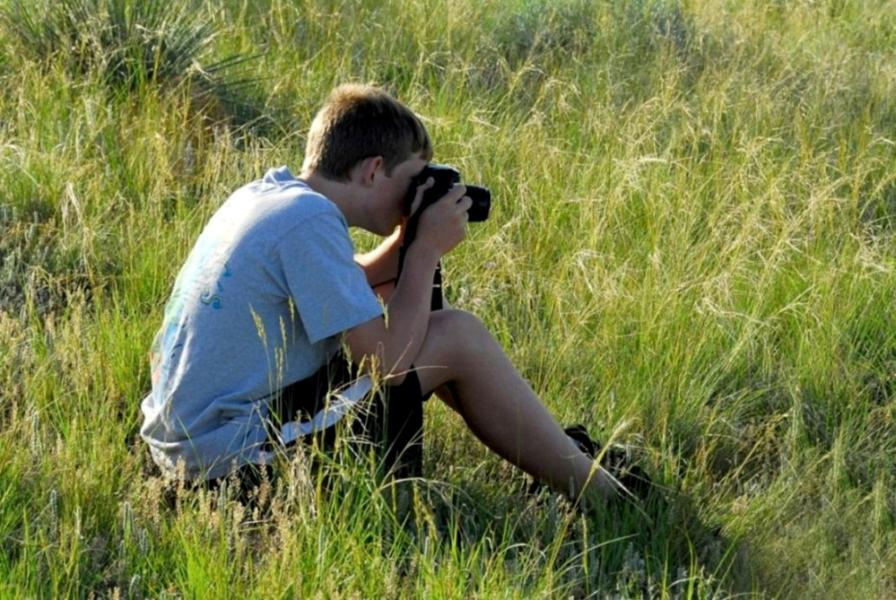person: (140, 80, 643, 532)
